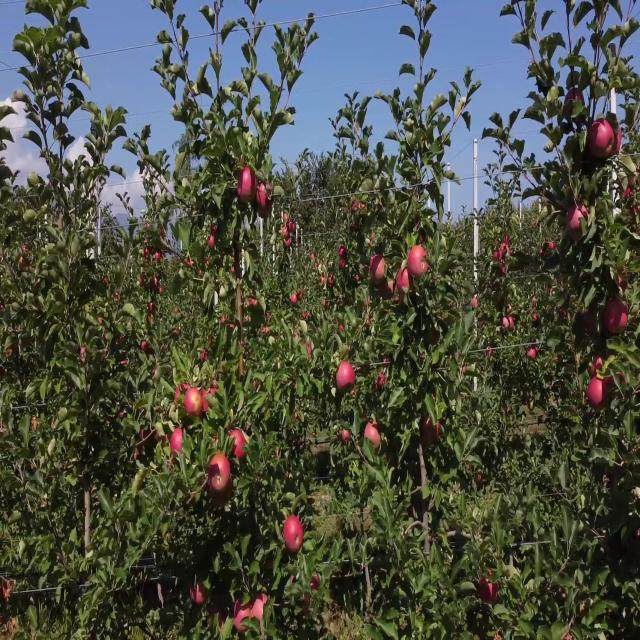apple: (588, 120, 612, 164), (604, 298, 628, 334), (208, 455, 232, 489), (284, 519, 304, 555), (568, 206, 587, 242), (236, 170, 256, 204), (408, 248, 430, 277), (336, 362, 356, 391), (480, 575, 500, 604), (304, 583, 320, 619), (564, 92, 584, 117), (228, 433, 247, 459), (184, 391, 201, 420), (236, 604, 252, 633), (588, 376, 604, 405), (424, 419, 441, 446), (372, 255, 387, 284), (204, 383, 219, 412), (256, 597, 270, 626), (212, 476, 231, 496), (364, 426, 381, 448), (380, 277, 396, 299), (172, 426, 184, 455), (612, 127, 624, 156), (192, 583, 208, 604), (396, 270, 411, 292), (220, 483, 235, 505), (212, 611, 227, 631), (256, 184, 268, 208), (260, 191, 270, 219), (616, 270, 628, 292), (592, 355, 604, 377), (428, 327, 440, 347), (604, 376, 616, 396), (176, 383, 188, 402), (588, 312, 597, 336), (140, 426, 151, 443), (304, 597, 312, 619), (152, 433, 167, 444), (504, 319, 516, 332), (580, 604, 590, 619), (420, 234, 431, 247), (268, 184, 275, 204), (20, 255, 29, 270), (340, 433, 352, 444), (80, 348, 88, 363), (208, 234, 216, 249), (212, 433, 220, 448), (384, 355, 392, 370), (496, 248, 503, 263), (32, 419, 39, 432), (380, 376, 386, 388), (136, 447, 141, 460), (636, 533, 640, 549), (212, 227, 219, 236), (308, 348, 312, 361), (372, 234, 377, 244)
